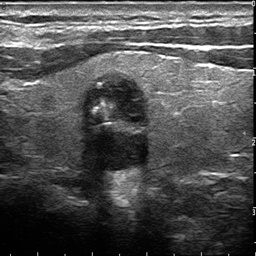mass: (84, 71, 149, 169)
